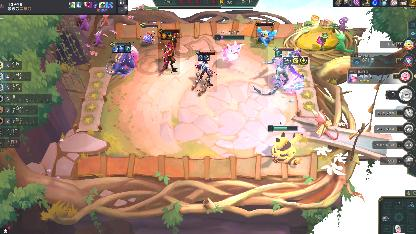1_nunu: (256, 22, 274, 44)
2_syfen: (268, 47, 298, 93)
2_sylas: (195, 50, 217, 92)
3_heimerdinger: (140, 22, 160, 44)
3_nomsy: (110, 42, 136, 74)
3_zippy: (158, 29, 180, 75)
